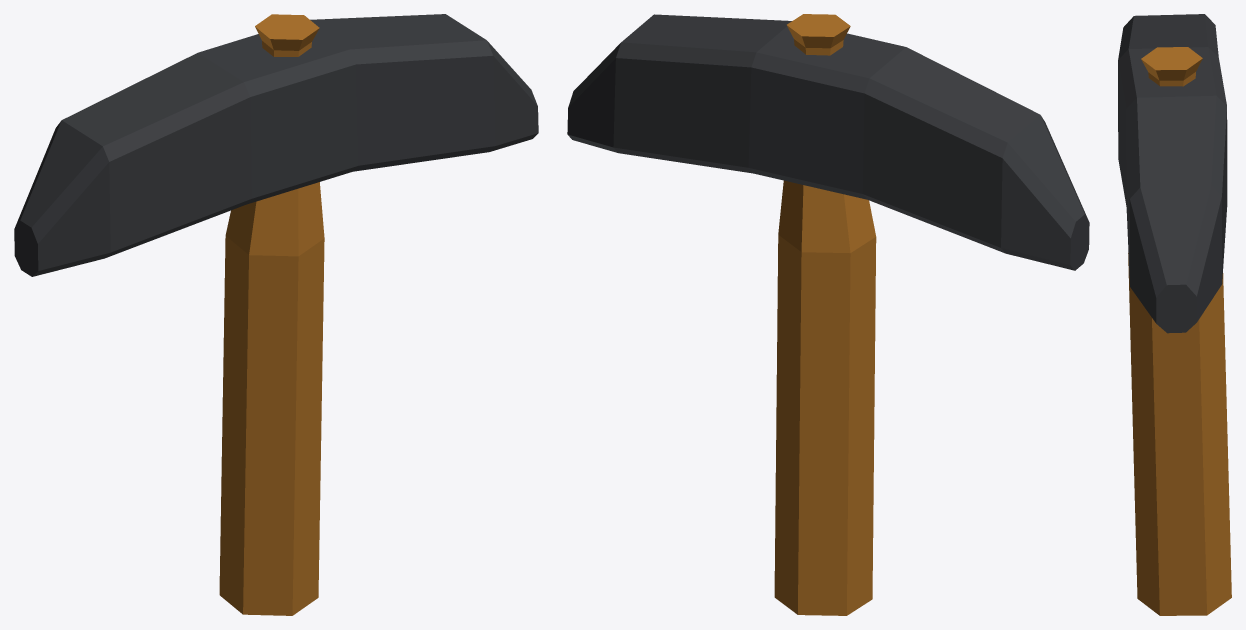
The model's file is Iron Pickaxe.fbx.
3 views of the same model, side by side, from view 1: azimuth 30°, elevation 25°; view 2: azimuth 150°, elevation 25°; view 3: azimuth 270°, elevation 25° (orthographic). The views are drawn at different scales.
Visible parts, largest first — view 1: pickaxe.001; view 2: pickaxe.001; view 3: pickaxe.001.
Boxes of the visible parts, <box> form: pickaxe.001: <box>14,14,538,615</box>; pickaxe.001: <box>567,14,1089,615</box>; pickaxe.001: <box>1118,14,1231,615</box>.
Bounding box in the file's own units: 0.4223 × 0.4562 × 0.0861.
